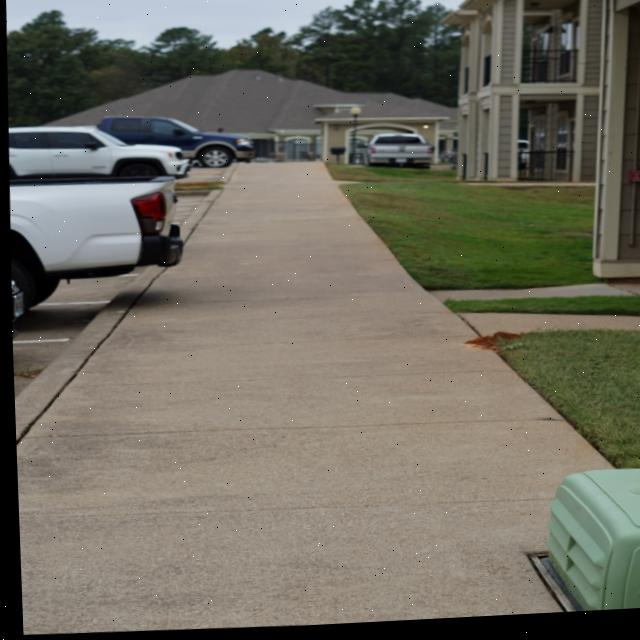Automobile: (8, 175, 180, 315), (7, 126, 188, 179), (96, 116, 253, 169), (364, 137, 430, 172)
Obstacle: (523, 475, 640, 618)
Road: (10, 274, 135, 395), (169, 193, 211, 226), (178, 172, 221, 184)
Sidewalk: (13, 166, 605, 634), (454, 316, 640, 341), (427, 286, 640, 307)
